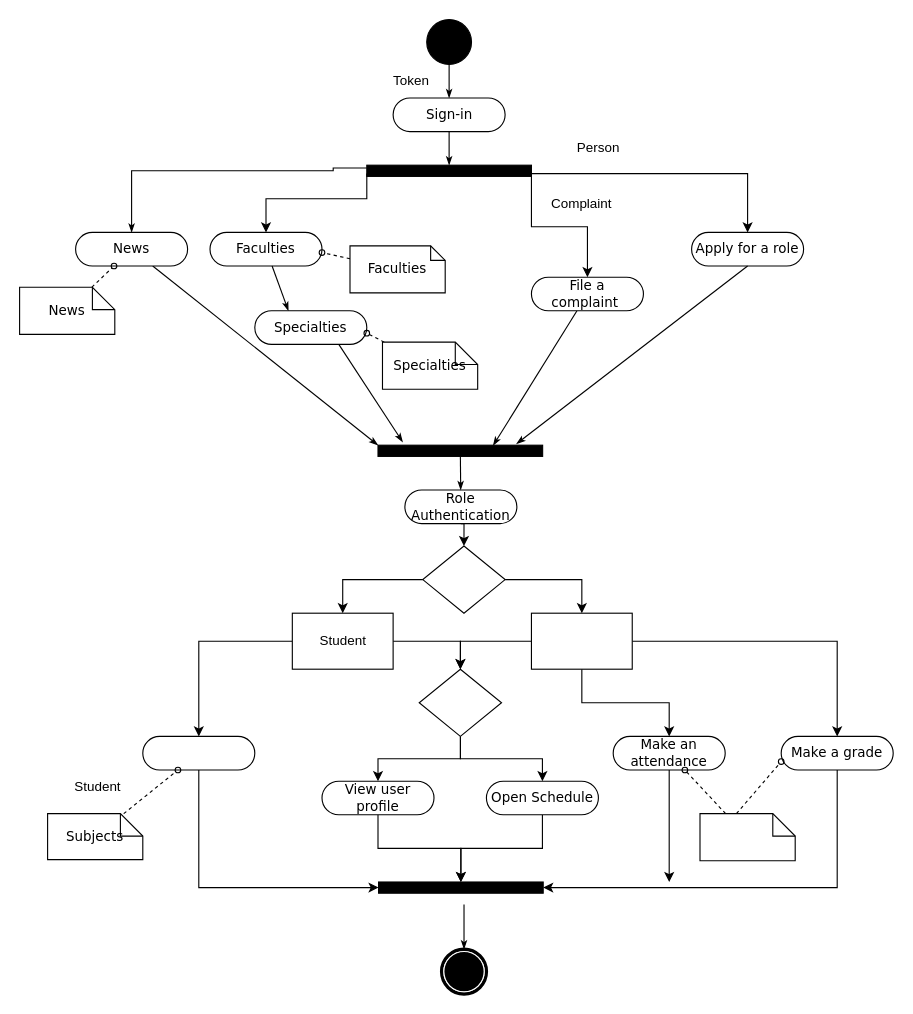
The diagram is 913 pixels wide and 1014 high, and some of its shapes have lost their labels. The centre of each missing label's shape, as x and y in pixels:
Get own subject: point 198,752
Journal: point 747,837
Teacher: point 581,640
